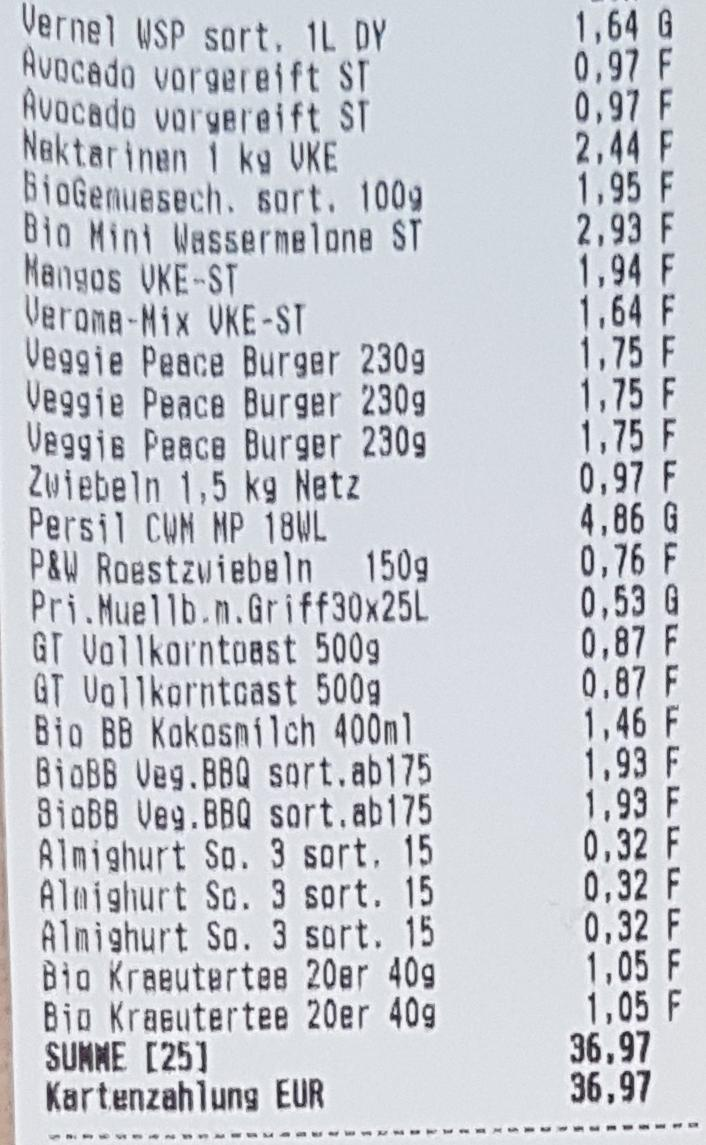Product: (22, 205, 426, 260), (16, 1, 401, 53), (19, 541, 443, 587), (25, 372, 429, 420), (23, 418, 431, 465), (24, 827, 441, 872), (25, 748, 434, 791), (25, 916, 440, 958), (16, 85, 385, 132), (24, 954, 438, 995), (19, 168, 430, 209), (17, 46, 391, 91), (27, 871, 435, 912), (26, 335, 429, 376), (24, 624, 386, 669), (18, 124, 347, 172), (24, 996, 445, 1032), (25, 708, 419, 746), (24, 791, 434, 827), (22, 587, 431, 623), (24, 461, 366, 504), (22, 504, 334, 551), (24, 669, 386, 704), (23, 297, 318, 333), (22, 251, 242, 291)
